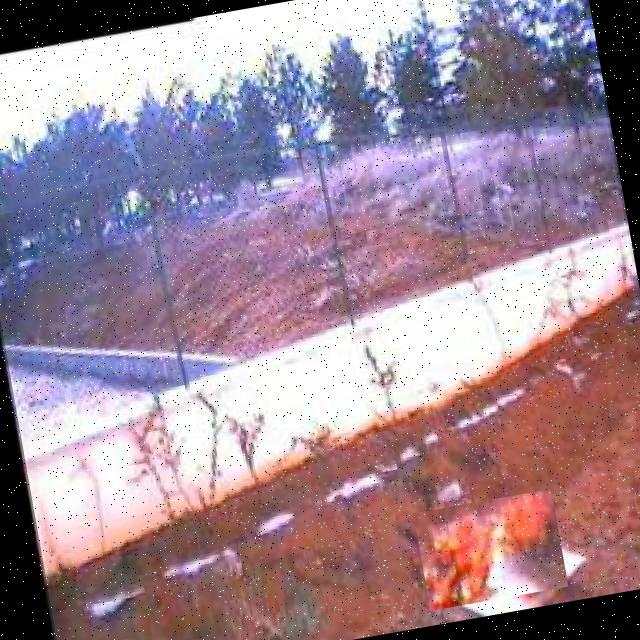fire: (413, 488, 568, 610)
